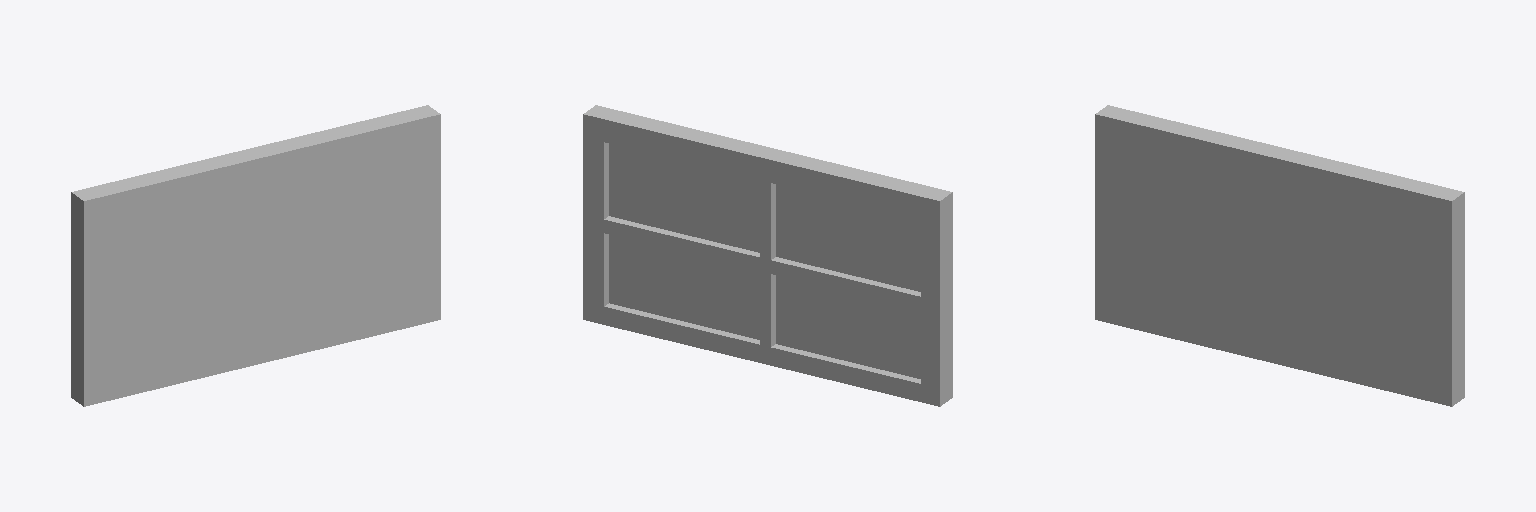
File: ventana7.obj
3 renders of one model, left to right at view 1: azimuth 30°, elevation 25°; view 2: azimuth 150°, elevation 25°; view 3: azimuth 330°, elevation 25°, orthographic.
Parts seen in each view (by area): view 1: pasted__pCube17 group38; view 2: pasted__pCube17 group38; view 3: pasted__pCube17 group38.
Boxes of the visible parts, box(x1,y1,x2,y2) form: pasted__pCube17 group38: box(71, 105, 440, 406); pasted__pCube17 group38: box(583, 105, 952, 406); pasted__pCube17 group38: box(1095, 105, 1464, 406).
Bounding box in the file's own units: 2.06 × 1.14 × 0.1263.